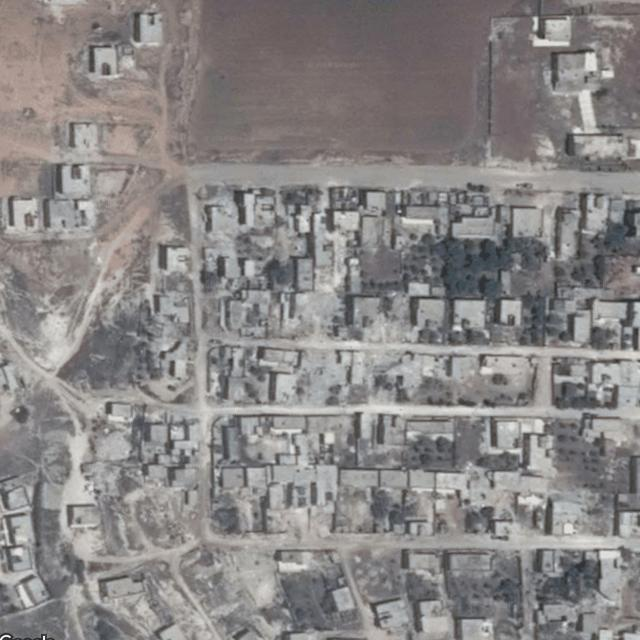damaged_building: (296, 290, 345, 341), (362, 296, 414, 342), (299, 352, 346, 402), (364, 350, 411, 370)
